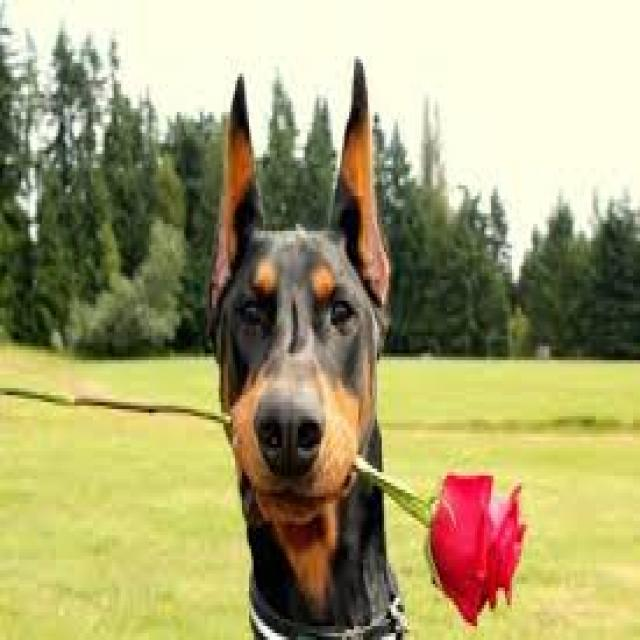Dog: (203, 50, 414, 640)
